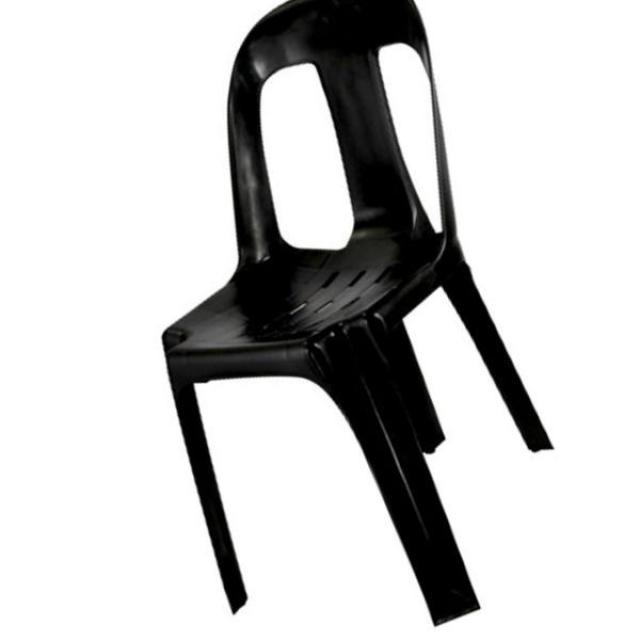chair: (154, 1, 556, 640)
